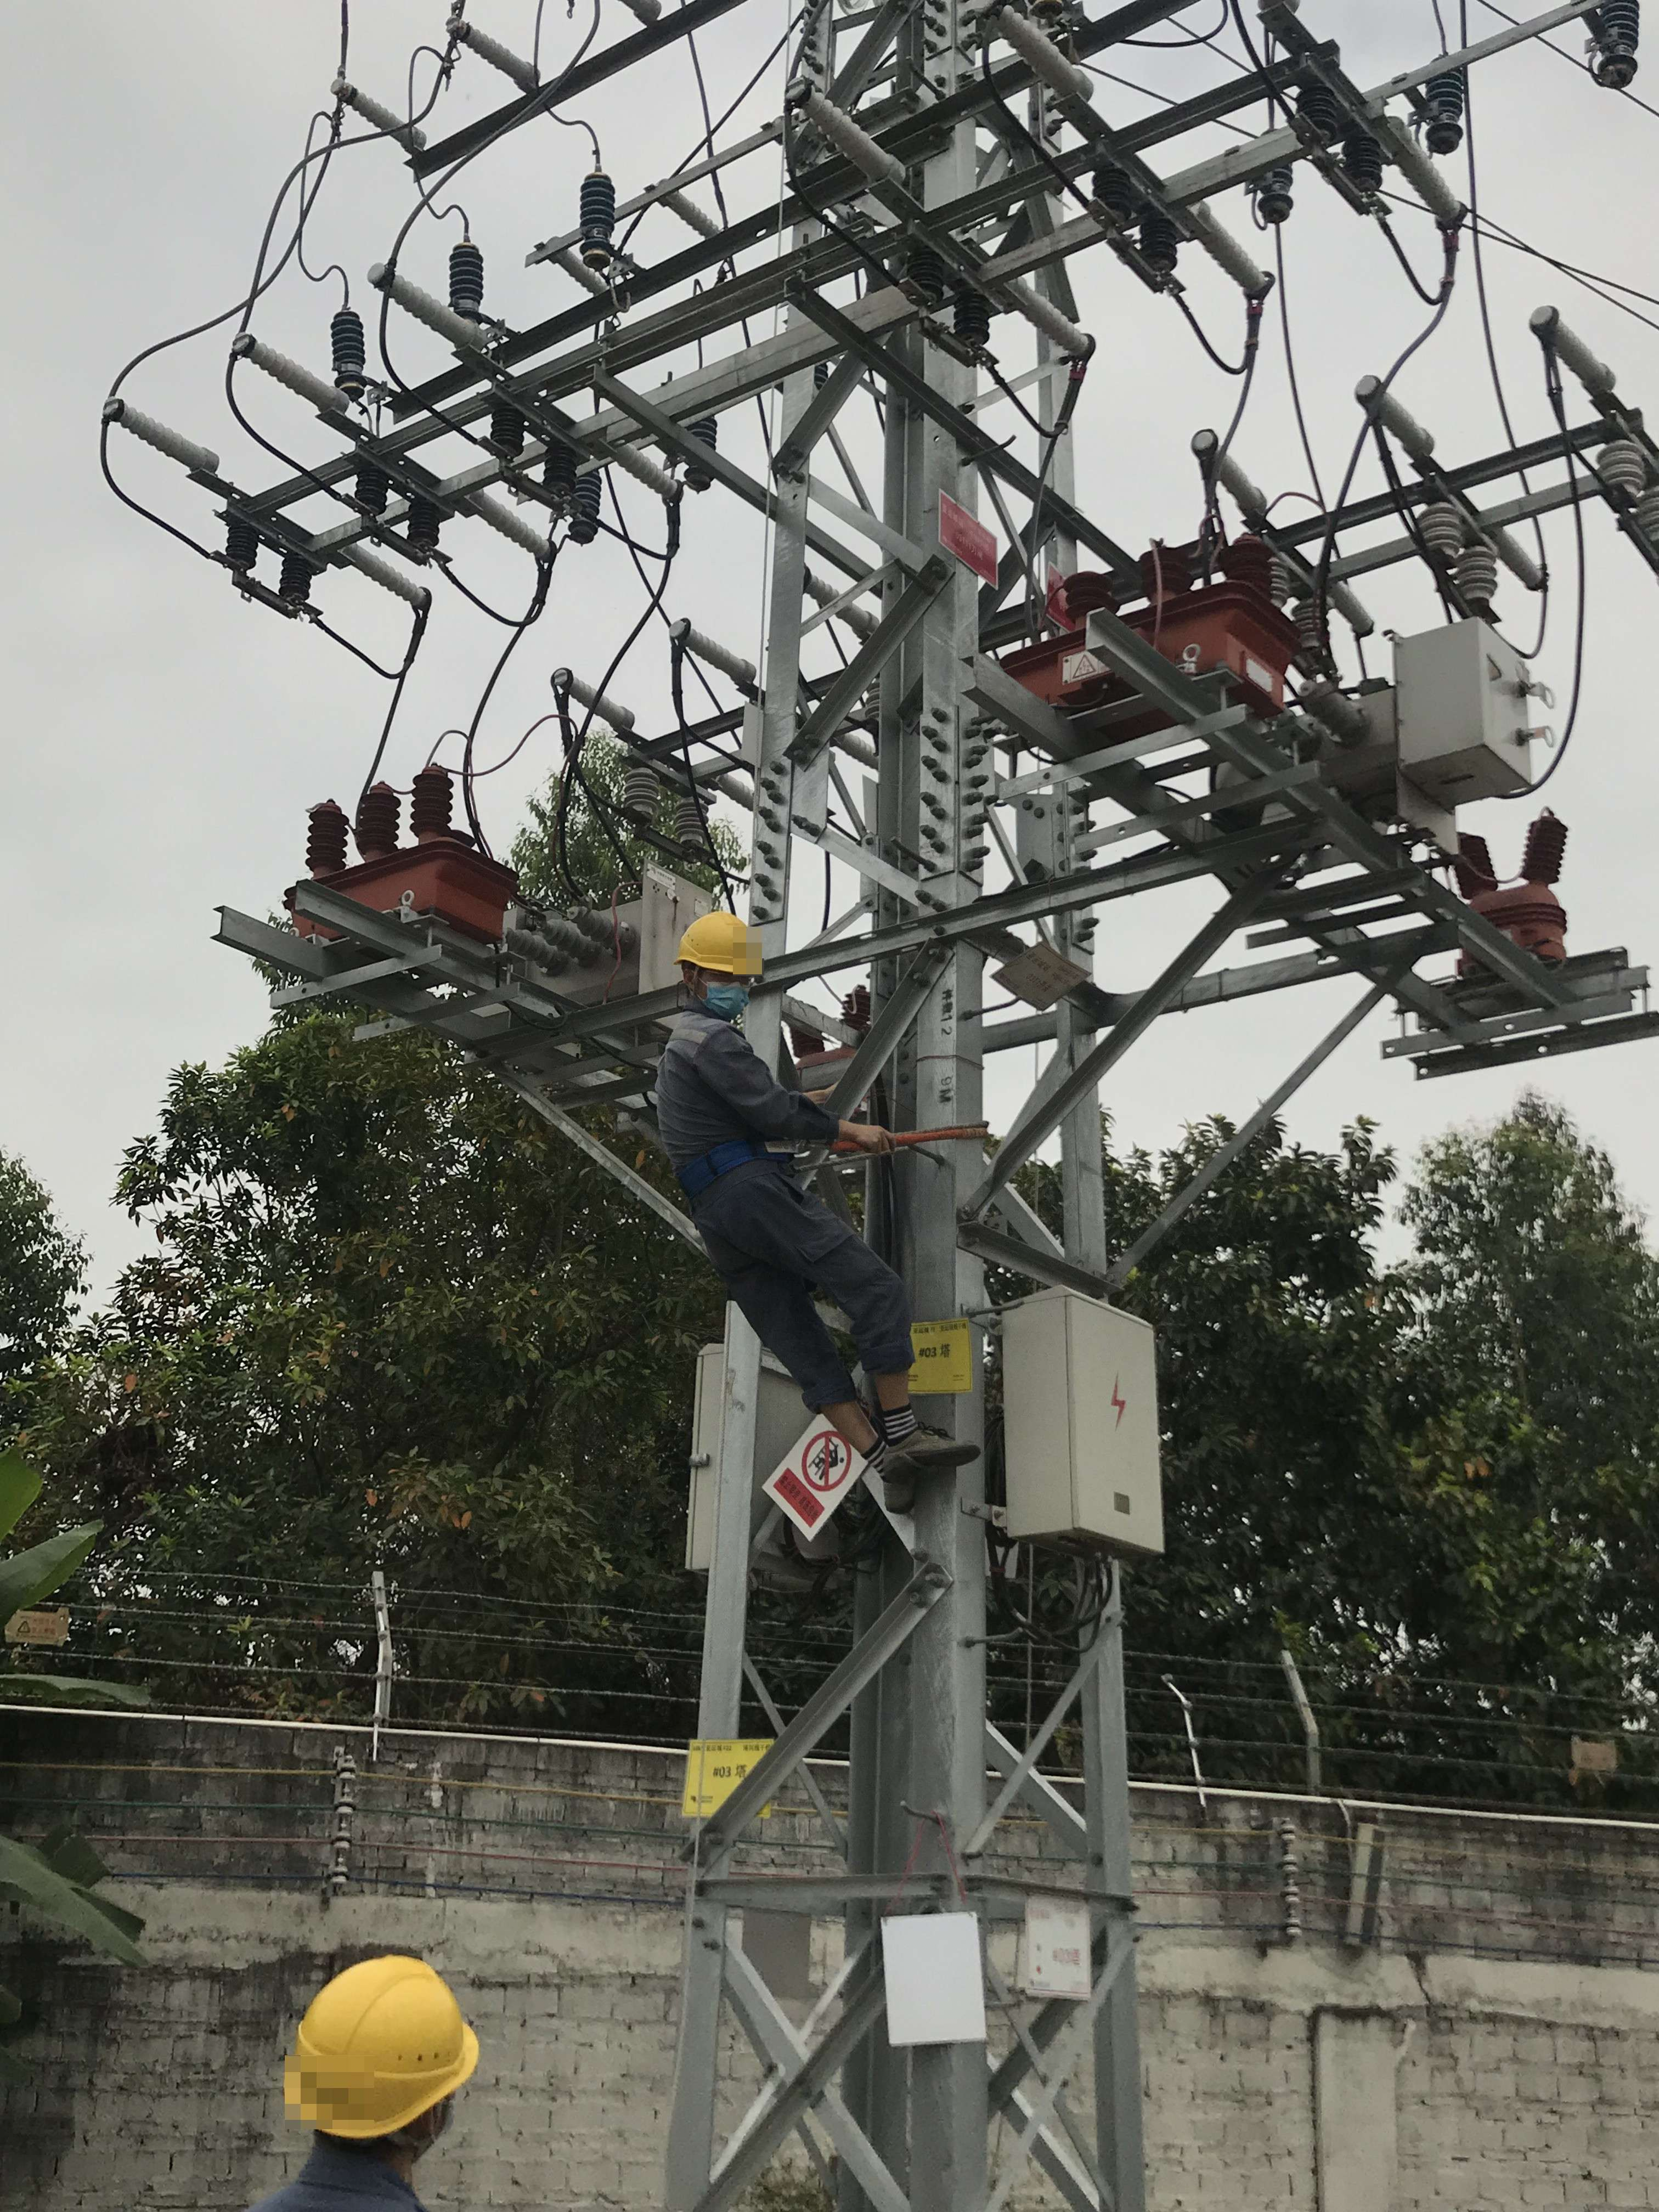downsuit: (692, 1170, 932, 1420)
upsuit: (653, 1007, 850, 1184)
wrongbottom: (795, 1353, 925, 1512)
